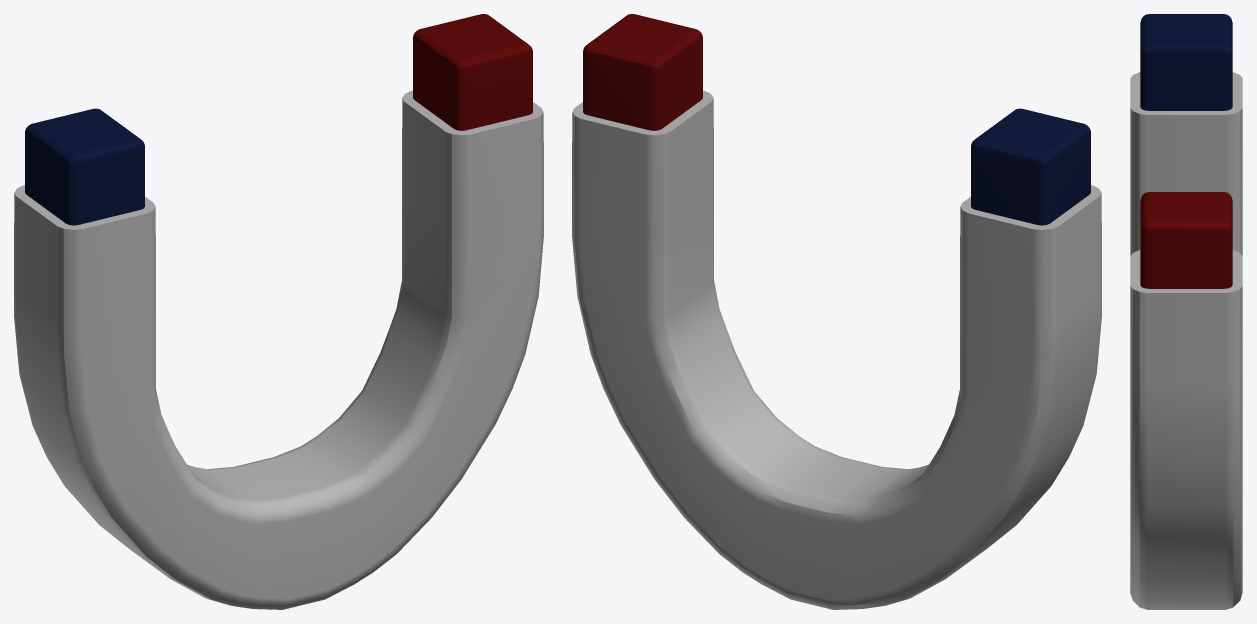
File: aimantCurseur.fbx
3 views of the same model, side by side, from view 1: azimuth 30°, elevation 25°; view 2: azimuth 150°, elevation 25°; view 3: azimuth 270°, elevation 25° (orthographic). The views are drawn at different scales.
Parts seen in each view (by area): view 1: pCube10; view 2: pCube10; view 3: pCube10.
Part boxes in pixels (x1,y1,x2,y2): pCube10: [14, 14, 543, 609]; pCube10: [572, 14, 1101, 609]; pCube10: [1130, 14, 1242, 609].
Bounding box in the file's own units: 7.33 × 7.3 × 1.57.
